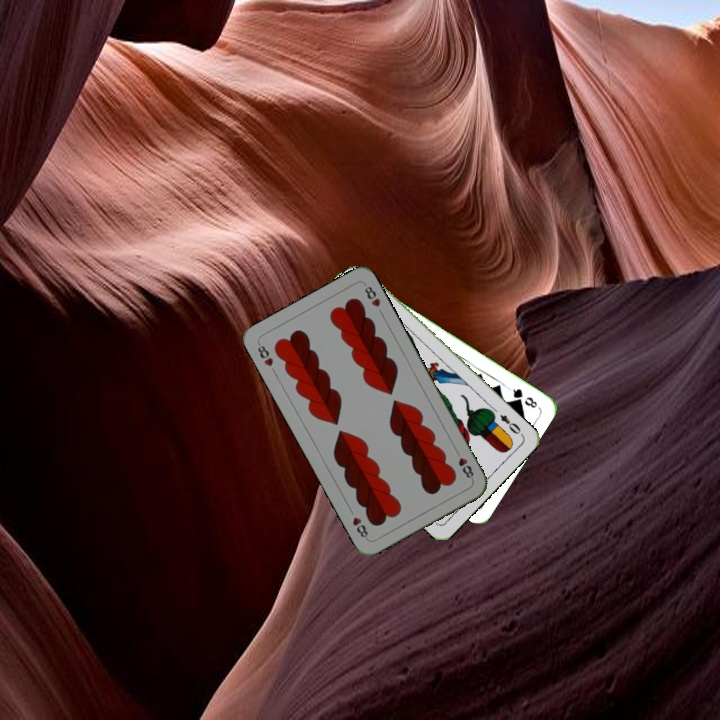EO: (496, 410, 523, 437)
G8: (505, 384, 540, 411)
H8: (451, 445, 476, 483), (253, 339, 276, 369)
